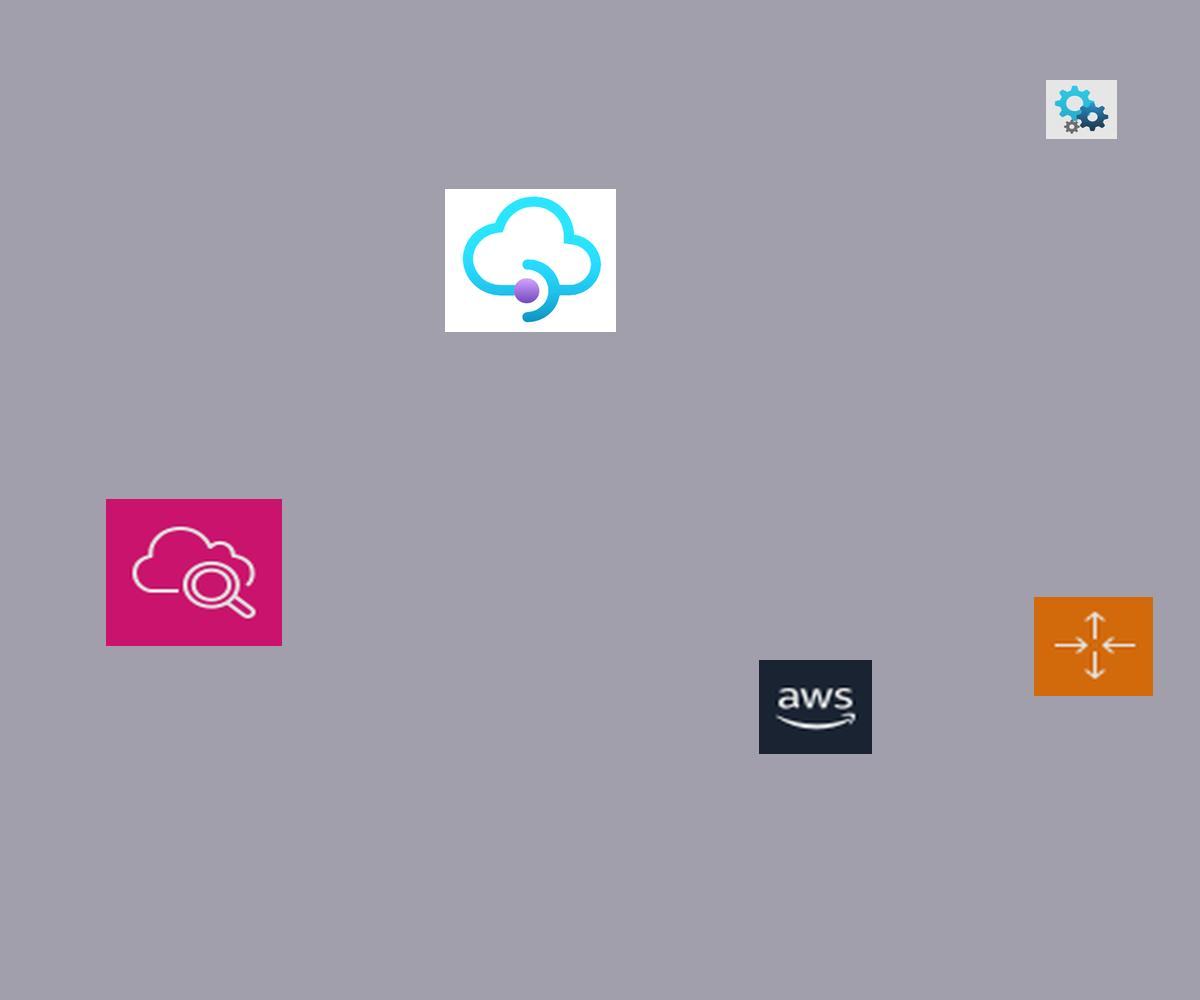AWS-Cloud-logo: (759, 660, 872, 754)
AWS-CloudWatch: (106, 499, 282, 646)
AWS-Scaling-group: (1034, 597, 1153, 696)
Azure_api: (1046, 80, 1117, 139)
Azure_api_gateway: (445, 189, 616, 332)
